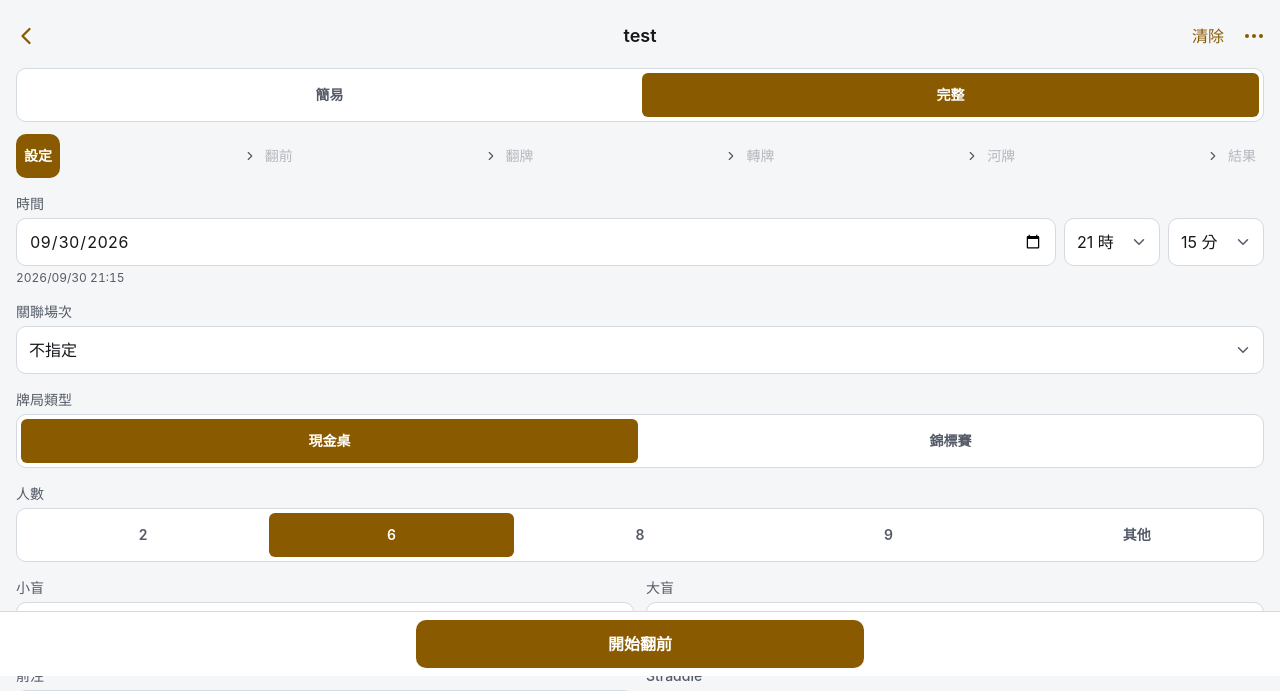
Test: 5.3 自動捲動：HandForm 呼叫 revealLatest 的時機與參數 › 5.3 其他操作不自動捲：開始翻前不呼叫
Click the button "開始翻前".
click(640, 644)  # box [416,620,864,668]
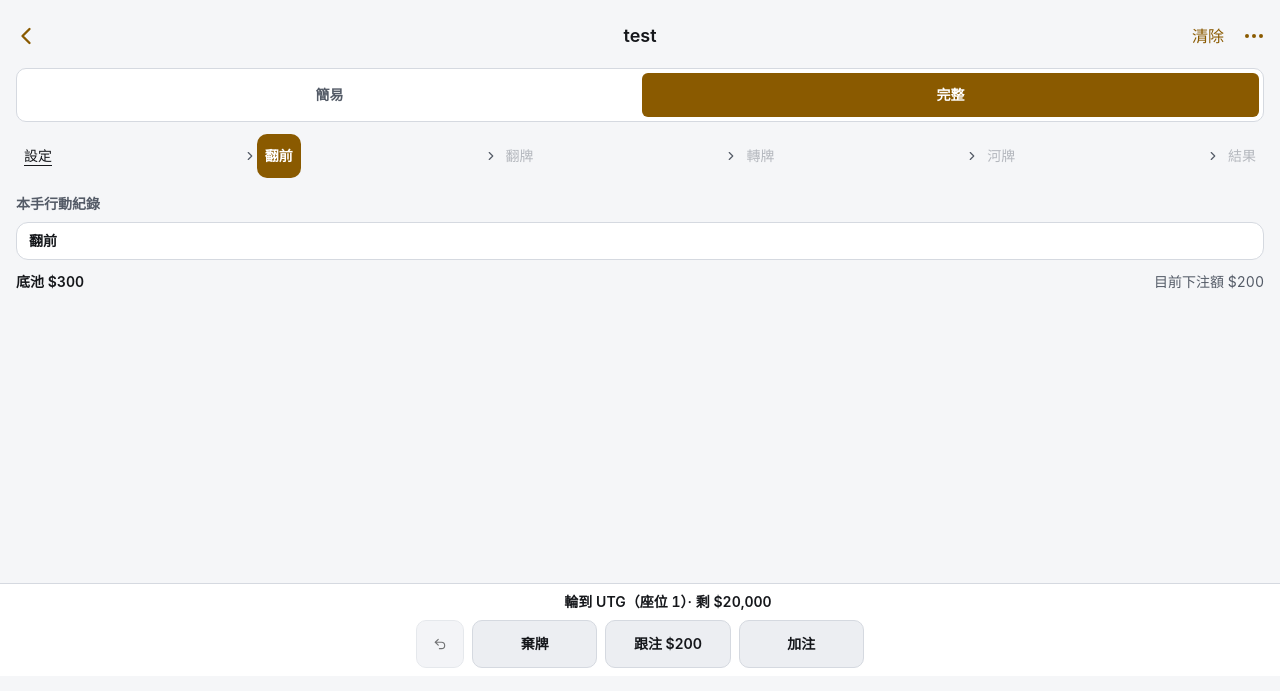
Expected: the element with test id "street-step-preflop" is shown, [16,194,1264,292]
